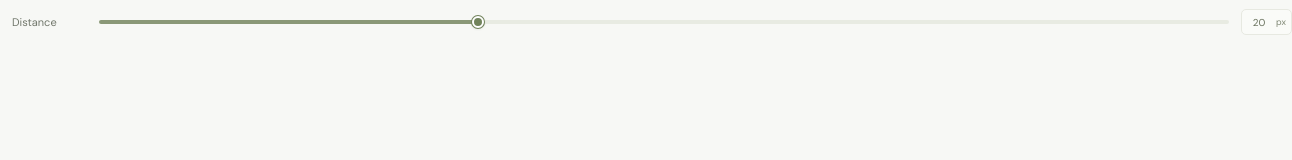
RangeControl › restores empty drafts and cancels edits with Escape
This screenshot has width=1292, height=160.
Later steps or results of the test are not shown.
Clear the number field: [1259, 22] box left=1242, top=10, right=1276, bottom=34
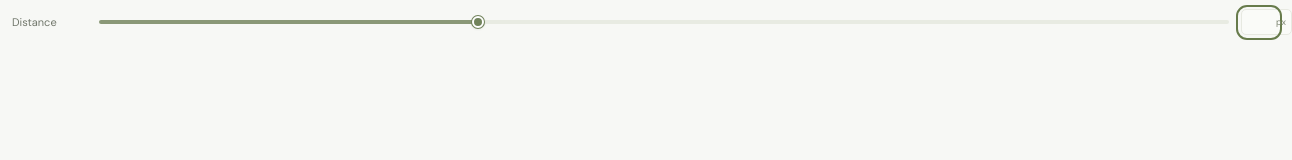
Press Enter
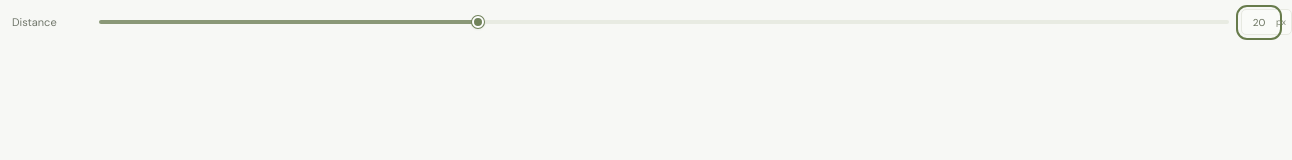
Now the number field holds "20", box left=1242, top=10, right=1276, bottom=34
